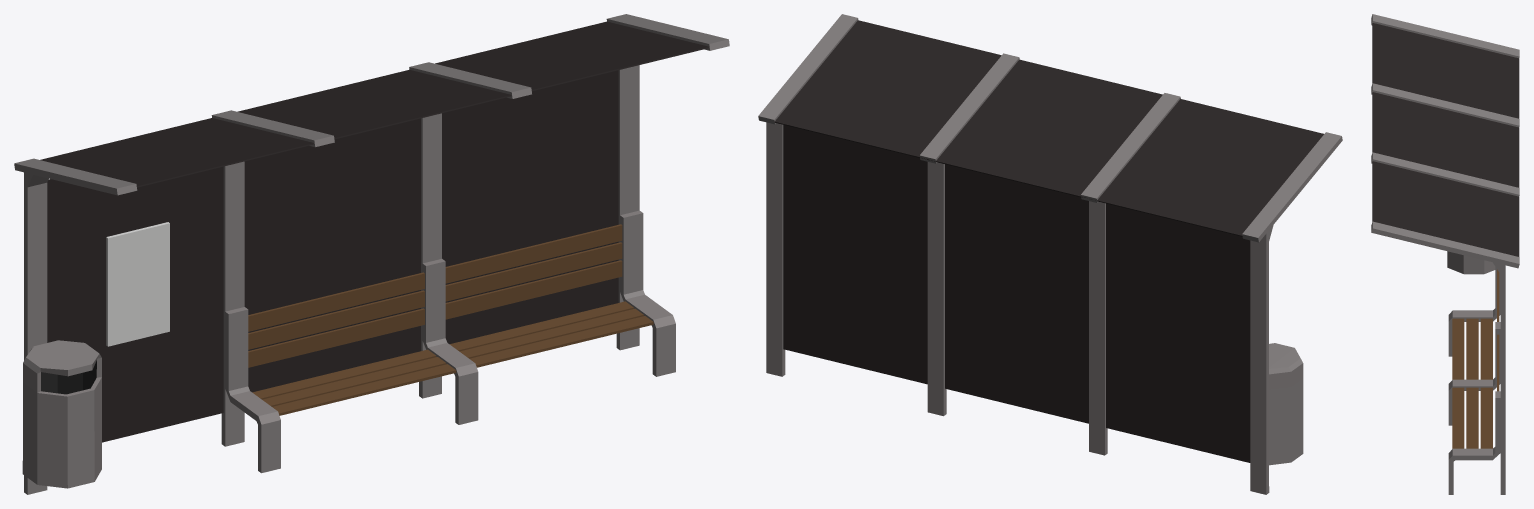
The model's file is bus-stop.fbx.
3 views of the same model, side by side, from view 1: azimuth 30°, elevation 25°; view 2: azimuth 150°, elevation 25°; view 3: azimuth 270°, elevation 25° (orthographic). The views are drawn at different scales.
Visible parts, largest first — view 1: bus-stop; view 2: bus-stop; view 3: bus-stop.
Boxes of the visible parts, left/top/right/bottom form: bus-stop: left=14, top=14, right=729, bottom=494; bus-stop: left=758, top=14, right=1342, bottom=494; bus-stop: left=1371, top=14, right=1519, bottom=494.
Bounding box in the file's own units: 5.13 × 2.9 × 1.46.
